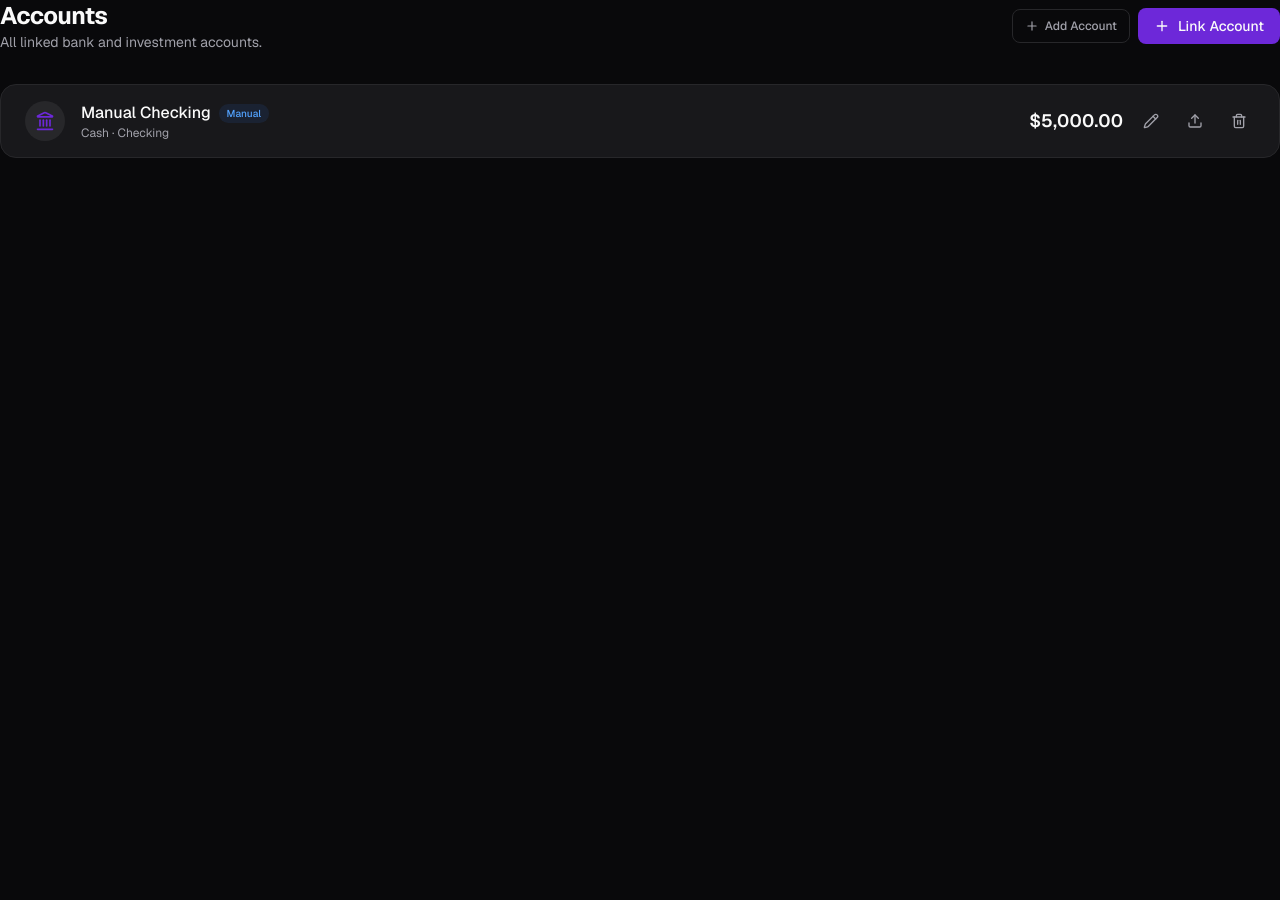
Test case: AccountsPage › opens edit modal with pre-filled fields when clicking edit
The width and height of the screenshot is (1280, 900).
Check: the text "Manual Checking" is shown, box [81,101,211,125]
Click the button titled "Edit account" at (1151, 121), box [1135,105,1167,137]
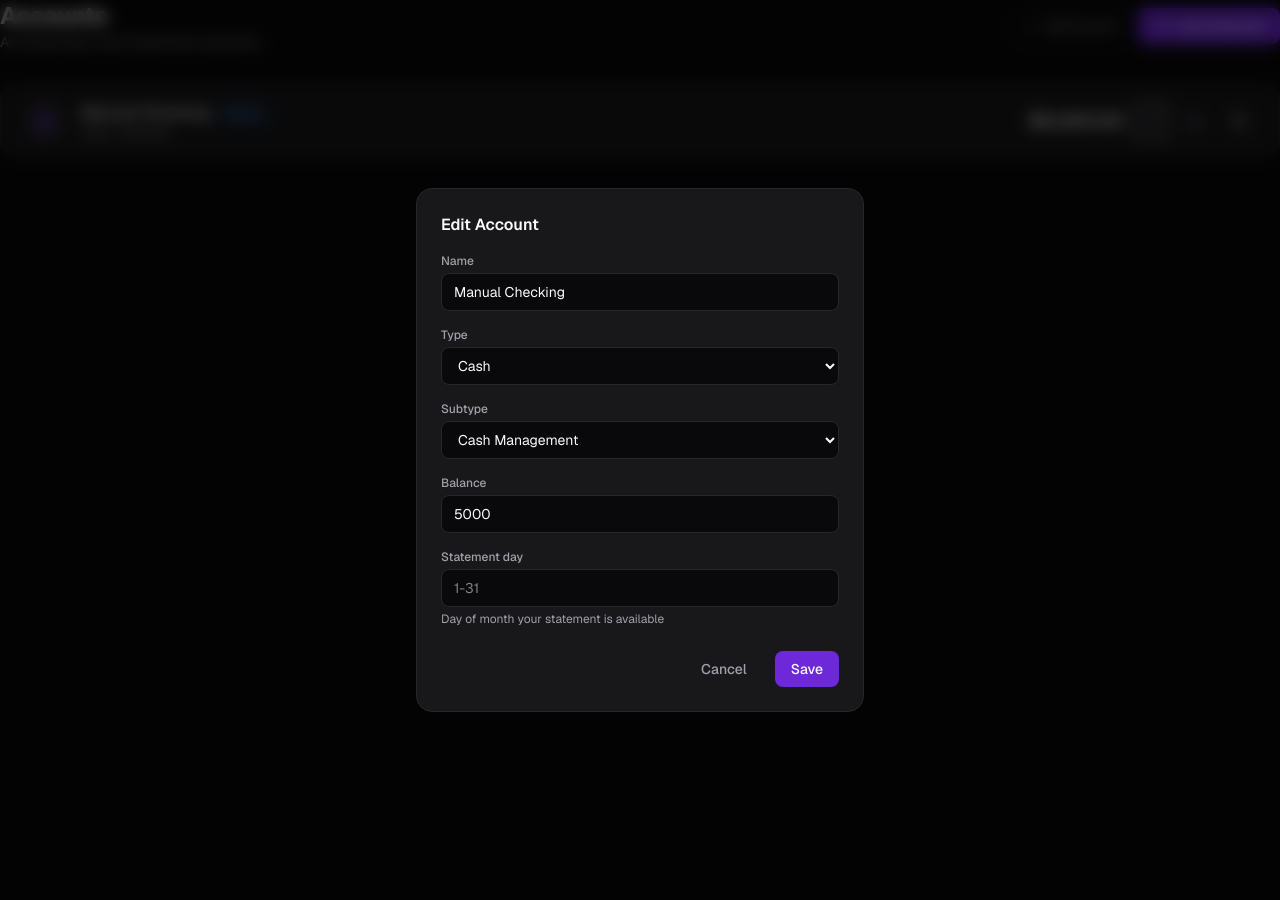
Check: the dialog is shown, box [416,188,864,712]
Check: the field showing "Manual Checking" is shown, box [441,273,839,311]
Check: the number field showing "5000" is shown, box [441,495,839,533]
